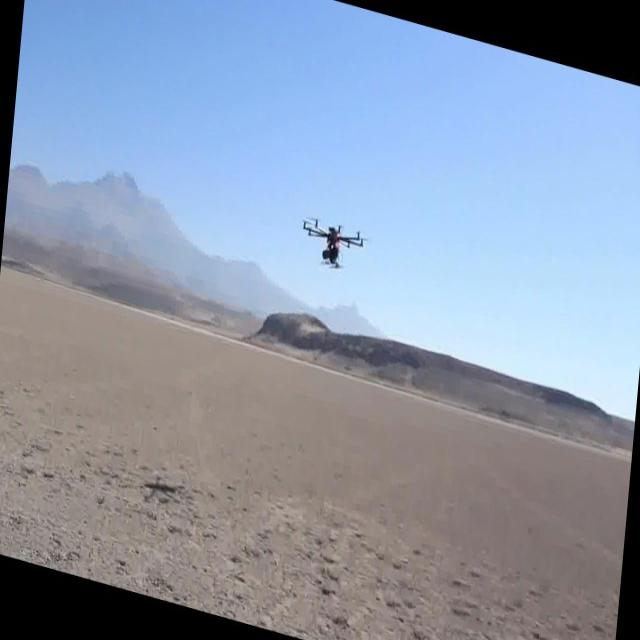drone: (299, 206, 370, 284)
